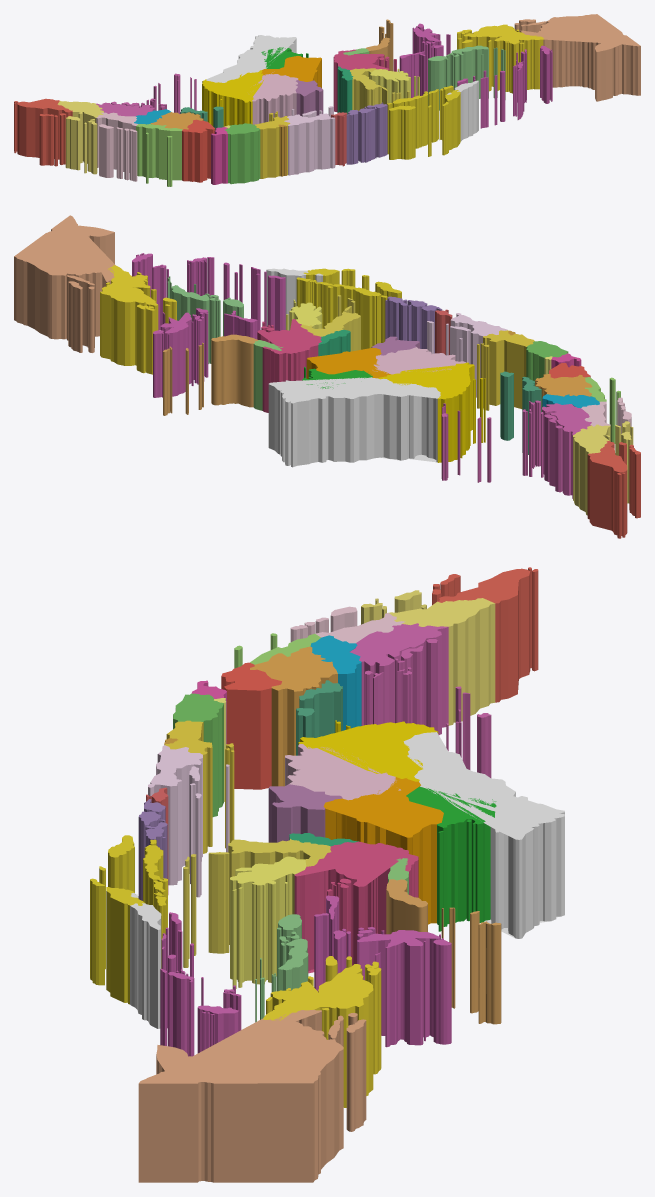
Rendered from peta indonesia.fbx.
3 views of the same model, one above another, from view 1: azimuth 30°, elevation 25°; view 2: azimuth 150°, elevation 25°; view 3: azimuth 270°, elevation 25° (orthographic). The views are drawn at different scales.
Parts seen in each view (by area): view 1: papua_irian_jaya, maluku_utara, polySurface2, nad, papua_barat, jawa_timur, sumatera_barat, maluku, bengkulu, kalimantan_barat, sumatera_utara, polySurface1 (+21 smaller); view 2: malaysia, papua_irian_jaya, maluku_utara, kepulauan_riau, papua_barat, sulawesi_utara, kalimantan_barat, nad, polySurface2, jawa_tengah, sulawesi_tengah, sumatera_utara (+19 smaller); view 3: papua_irian_jaya, maluku_utara, malaysia, kepulauan_riau, sulawesi_tengah, polySurface2, sumatera_utara, kalimantan_timur, kalimantan_utara, sulawesi_tenggara, nad, papua_barat (+17 smaller).
Part boxes in pixels (x1,y1,x2,y2): papua_irian_jaya: [514, 14, 640, 101]; maluku_utara: [399, 23, 552, 128]; polySurface2: [387, 85, 460, 159]; nad: [14, 98, 72, 166]; papua_barat: [457, 24, 543, 93]; jawa_timur: [284, 106, 335, 175]; sumatera_barat: [96, 112, 137, 181]; maluku: [428, 45, 505, 110]; bengkulu: [136, 124, 182, 186]; kalimantan_barat: [202, 70, 263, 126]; sumatera_utara: [57, 101, 103, 174]; polySurface1: [346, 102, 387, 164]; malaysia: [268, 377, 440, 467]; papua_irian_jaya: [14, 215, 115, 352]; maluku_utara: [132, 253, 285, 397]; kepulauan_riau: [441, 400, 591, 498]; papua_barat: [100, 265, 176, 374]; sulawesi_utara: [163, 334, 258, 415]; kalimantan_barat: [378, 362, 485, 462]; nad: [587, 441, 640, 538]; polySurface2: [296, 268, 401, 349]; jawa_tengah: [477, 330, 534, 410]; sulawesi_tengah: [257, 319, 321, 412]; sumatera_utara: [573, 421, 633, 515]; papua_irian_jaya: [138, 1009, 366, 1182]; maluku_utara: [160, 895, 451, 1056]; malaysia: [403, 732, 564, 938]; kepulauan_riau: [350, 623, 491, 777]; sulawesi_tengah: [294, 841, 418, 973]; polySurface2: [90, 835, 167, 1004]; sumatera_utara: [361, 590, 495, 725]; kalimantan_timur: [323, 777, 443, 924]; kalimantan_utara: [406, 786, 496, 931]; sulawesi_tenggara: [230, 856, 306, 988]; nad: [432, 567, 538, 702]; papua_barat: [263, 956, 381, 1107].
Bounding box in the file's own units: 22.33 × 2.05 × 8.68.
